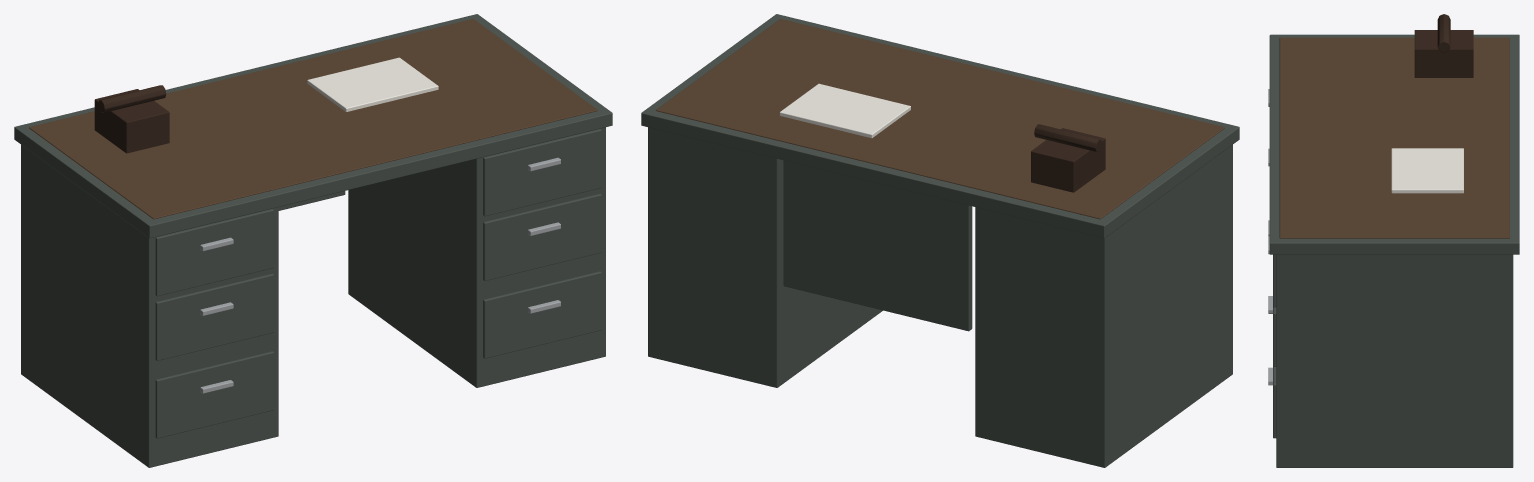
Rendered from PROP_Desk_Steel_Tanker.glb.
3 renders of one model, left to right at view 1: azimuth 30°, elevation 25°; view 2: azimuth 150°, elevation 25°; view 3: azimuth 270°, elevation 25°, orthographic. The views are drawn at different scales.
Visible parts, largest first — view 1: PROP_Desk_Steel_Tanker_Mesh; view 2: PROP_Desk_Steel_Tanker_Mesh; view 3: PROP_Desk_Steel_Tanker_Mesh.
Boxes of the visible parts, box(x1,y1,x2,y2) form: PROP_Desk_Steel_Tanker_Mesh: box(14, 14, 612, 467); PROP_Desk_Steel_Tanker_Mesh: box(641, 14, 1239, 467); PROP_Desk_Steel_Tanker_Mesh: box(1268, 14, 1519, 467).
Size of what is drawn, in the model's own units: 1.5 by 0.8996 by 0.765.
